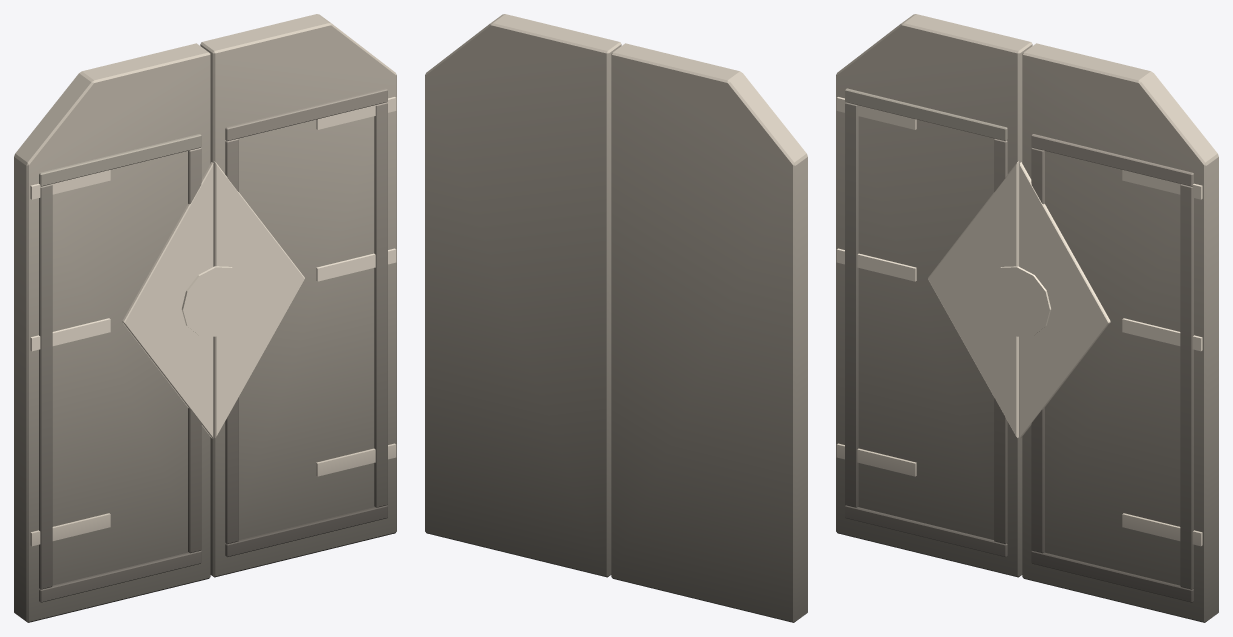
The model's file is SM_VKI_Leaf_DwarfGate_300.fbx.
3 renders of one model, left to right at view 1: azimuth 30°, elevation 25°; view 2: azimuth 150°, elevation 25°; view 3: azimuth 330°, elevation 25°, orthographic.
Visible parts, largest first — view 1: SM_VKI_Leaf_DwarfGate_300.001; view 2: SM_VKI_Leaf_DwarfGate_300.001; view 3: SM_VKI_Leaf_DwarfGate_300.001.
Part boxes in pixels (x1,y1,x2,y2): SM_VKI_Leaf_DwarfGate_300.001: (14, 14, 396, 622); SM_VKI_Leaf_DwarfGate_300.001: (425, 14, 807, 622); SM_VKI_Leaf_DwarfGate_300.001: (836, 14, 1218, 622).
Size of the model in its own units: 1.79 by 2.43 by 0.149.
